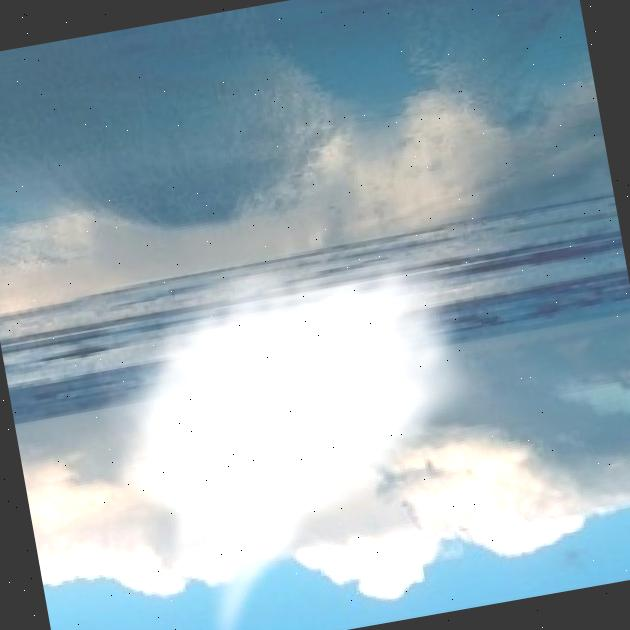smoke: (6, 218, 462, 551)
